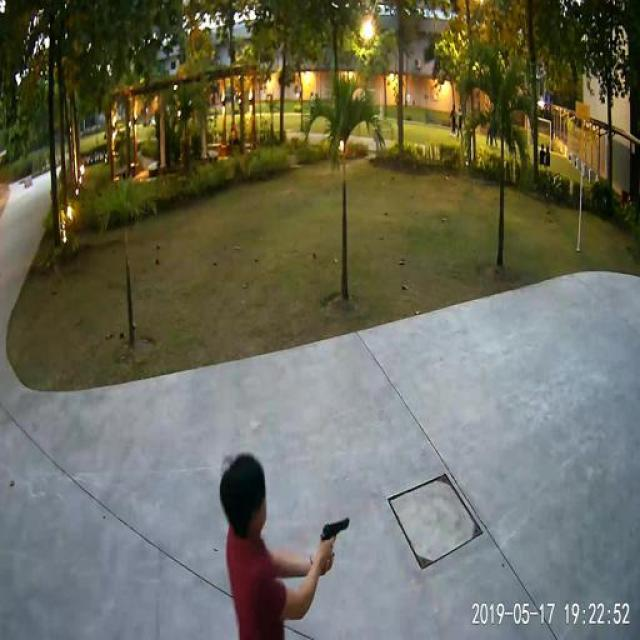Gun: (309, 515, 361, 573)
